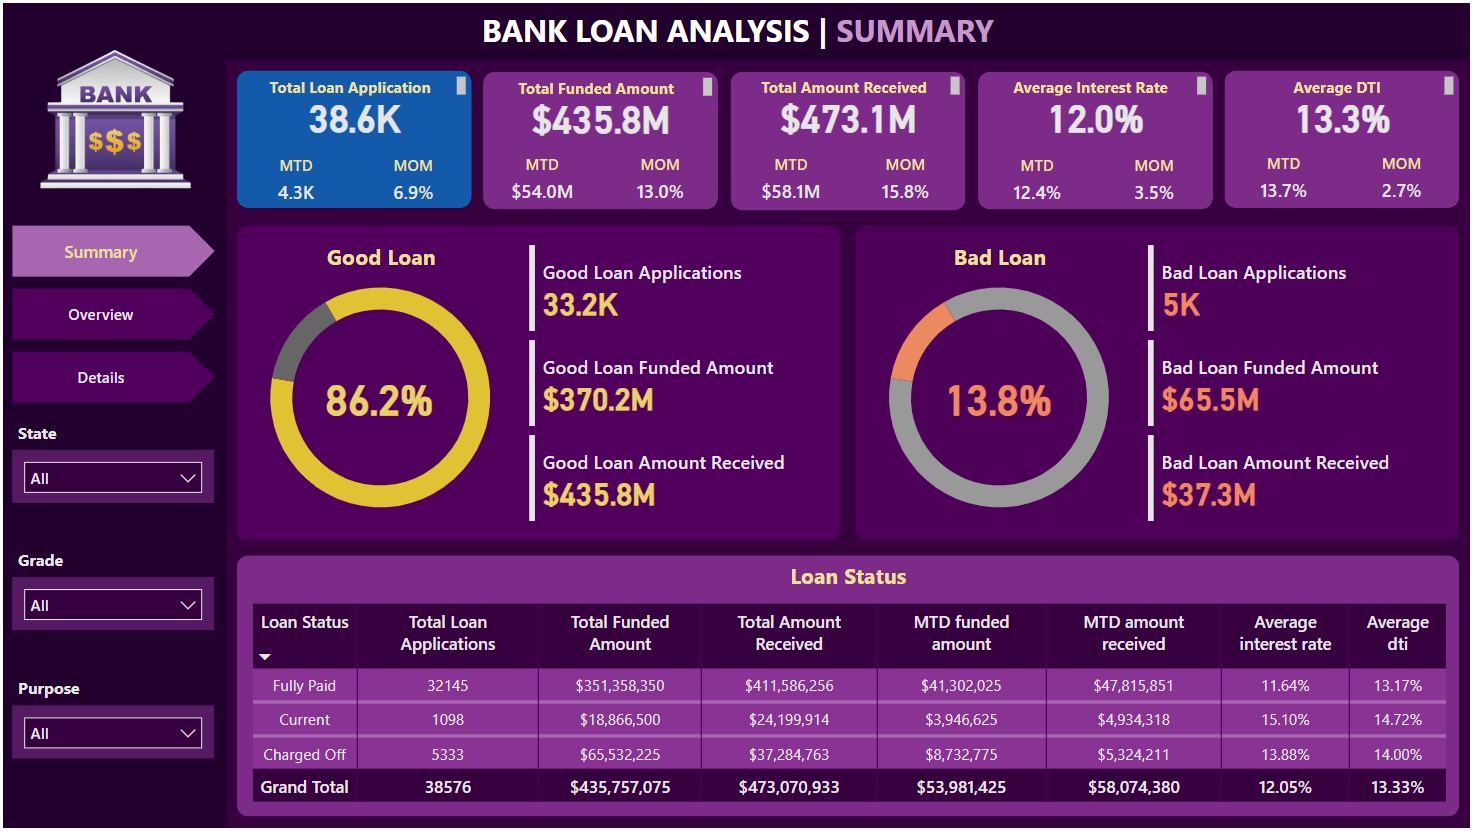

What the dashboard file says about the page in this screenshot:
{"tool":"powerbi","page":{"name":"Summary","canvas":[1280,720],"ordinal":0},"visuals":[{"type":"shape","box":[0,0,1280,49.6],"z":0},{"type":"shape","box":[203.9,193.8,527.3,274.9],"z":0,"group":"g6"},{"type":"shape","box":[743.6,193.8,527.3,274.9],"z":0,"group":"g7"},{"type":"shape","box":[203.9,482.2,1067,227.6],"z":1000},{"type":"shape","box":[0,49.5,194.9,670.4],"z":2000},{"type":"textbox","box":[401.1,0,479.9,49.4],"z":3000},{"type":"shape","box":[203.9,58.7,205,120],"z":3000,"group":"g1"},{"type":"shape","box":[1065.9,58.7,205,120],"z":3000,"group":"g4"},{"type":"shape","box":[419.1,59.8,205,120],"z":3000,"group":"g2"},{"type":"shape","box":[850.7,60,205,119.8],"z":3000,"group":"g3"},{"type":"group","id":"g1","title":"Group 1","box":[203.9,58.7,205,124.5],"z":4000},{"type":"shape","box":[635.5,59.5,205,121.1],"z":4000,"group":"g5"},{"type":"card","fields":{"Values":["loan_data.Total loan applications"]},"box":[203.9,75.2,205,45.9],"z":4000,"group":"g1"},{"type":"card","fields":{"Values":["loan_data.Average interest rate"]},"box":[850.7,75.2,204.5,45.9],"z":4000,"group":"g3"},{"type":"card","fields":{"Values":["loan_data.Average dti"]},"box":[1065.9,75.2,205,45.9],"z":4000,"group":"g4"},{"type":"card","fields":{"Values":["loan_data.Total funded amount"]},"box":[419.1,76.3,205,45.9],"z":4000,"group":"g2"},{"type":"textbox","box":[203.9,58.7,205,27.1],"z":5000,"group":"g1"},{"type":"textbox","box":[850.7,58.7,204.5,27.1],"z":5000,"group":"g3"},{"type":"textbox","box":[1065.9,58.7,205,27.1],"z":5000,"group":"g4"},{"type":"group","id":"g2","title":"Group 1","box":[419.1,59.8,205,123],"z":5000},{"type":"textbox","box":[419.1,59.8,205,27.1],"z":5000,"group":"g2"},{"type":"group","id":"g3","title":"Group 1","box":[850.7,58.7,205,124.3],"z":6000},{"type":"card","fields":{"Values":["loan_data.Total amount received"]},"box":[636,75.2,204.4,45.9],"z":6000,"group":"g5"},{"type":"card","title":"MTD","fields":{"Values":["loan_data.MTD avg dti"]},"box":[1080.7,130.9,73.4,50.8],"z":6000,"group":"g4"},{"type":"card","title":"MTD","fields":{"Values":["loan_data.MTD funded amount"]},"box":[433.9,132,73.4,50.8],"z":6000,"group":"g2"},{"type":"card","title":"MTD","fields":{"Values":["loan_data.MTD avg int rate"]},"box":[865.5,132.2,73.2,50.8],"z":6000,"group":"g3"},{"type":"card","title":"MTD","fields":{"Values":["loan_data.MTD loan application"]},"box":[218.5,132.6,73.6,50.6],"z":6000,"group":"g1"},{"type":"textbox","box":[636,58.7,204.5,27.1],"z":7000,"group":"g5"},{"type":"group","id":"g4","title":"Group 1","box":[1065.9,58.7,205,123],"z":7000},{"type":"card","title":"MOM","fields":{"Values":["loan_data.MOM avg dti"]},"box":[1183.5,130.9,73.4,50.8],"z":7000,"group":"g4"},{"type":"card","title":"MOM","fields":{"Values":["loan_data.MOM funded amount"]},"box":[536.7,132,73.4,50.8],"z":7000,"group":"g2"},{"type":"card","title":"MOM","fields":{"Values":["loan_data.MOM avg int rate"]},"box":[968,132.2,73.2,50.8],"z":7000,"group":"g3"},{"type":"card","title":"MOM","fields":{"Values":["loan_data.MOM loan applications"]},"box":[321,132.6,73.6,50.6],"z":7000,"group":"g1"},{"type":"group","id":"g5","title":"Group 2","box":[635.5,58.7,205,123.8],"z":8000},{"type":"card","title":"MTD","fields":{"Values":["loan_data.MTD amount received"]},"box":[651.6,131.7,73.2,50.8],"z":8000,"group":"g5"},{"type":"group","id":"g6","title":"Group 3","box":[203.9,193.8,527.3,274.9],"z":9000},{"type":"card","title":"MOM","fields":{"Values":["loan_data.MOM amount received"]},"box":[751.4,131.7,73.2,50.8],"z":10000,"group":"g5"},{"type":"group","id":"g7","title":"Group 3","box":[743.6,193.8,527.3,274.9],"z":10000},{"type":"donutChart","fields":{"Category":["loan_data.Good vs Bad Loan"],"Y":["loan_data.Total loan applications"]},"box":[203.9,218.6,250.1,250.1],"z":11000,"group":"g6"},{"type":"donutChart","fields":{"Category":["loan_data.Good vs Bad Loan"],"Y":["loan_data.Total loan applications"]},"box":[743.6,218.6,250.1,250.1],"z":11000,"group":"g7"},{"type":"tableEx","fields":{"Values":["loan_data.loan_status","loan_data.Total loan applications","loan_data.Total funded amount","loan_data.Total amount received","loan_data.MTD funded amount","loan_data.MTD amount received","loan_data.Average interest rate","loan_data.Average dti"]},"box":[211.8,519.4,1052.4,190.4],"z":11000},{"type":"textbox","box":[203.9,482.2,1067,37.2],"z":12000},{"type":"cardVisual","fields":{"Data":["loan_data.Good loan applications","loan_data.Good loan funded amount","loan_data.Good loan amount received"]},"box":[454,206.2,270.4,251.3],"z":13000,"group":"g6"},{"type":"cardVisual","fields":{"Data":["loan_data.Bad Loan Applications","loan_data.Bad Loan Funded Amount","loan_data.Bad Loan Amount Received"]},"box":[993.7,206.2,270.4,251.3],"z":13000,"group":"g7"},{"type":"group","id":"g8","title":"Group 4","box":[8.3,360,176.4,76.3],"z":13000},{"type":"textbox","box":[227.6,202.8,203.9,34.9],"z":13500,"group":"g6"},{"type":"textbox","box":[767.3,202.8,203.9,34.9],"z":13500,"group":"g7"},{"type":"card","fields":{"Values":["loan_data.Good loan percentage"]},"box":[254.6,321.1,146.5,45.1],"z":14000,"group":"g6"},{"type":"card","fields":{"Values":["loan_data.Bad loan percentage"]},"box":[794.3,321.1,146.5,45.1],"z":14000,"group":"g7"},{"type":"group","id":"g9","title":"Group 4","box":[8.3,471.3,176.4,76.3],"z":14000},{"type":"textbox","box":[8.3,360,176.4,28.9],"z":14500,"group":"g8"},{"type":"textbox","box":[8.3,471.3,176.4,28.9],"z":14500,"group":"g9"},{"type":"textbox","box":[8.3,582.7,176.4,28.9],"z":14500,"group":"g10"},{"type":"slicer","fields":{"Values":["loan_data.address_state"]},"box":[8.3,389.9,176.4,46.4],"z":15000,"group":"g8"},{"type":"slicer","fields":{"Values":["loan_data.grade"]},"box":[8.3,501.2,176.4,46.4],"z":15000,"group":"g9"},{"type":"group","id":"g10","title":"Group 4","box":[8.3,582.7,176.4,76.3],"z":15000},{"type":"slicer","fields":{"Values":["loan_data.purpose"]},"box":[8.3,612.6,176.4,46.4],"z":15000,"group":"g10"},{"type":"pageNavigator","box":[8.3,193.9,176.4,155.7],"z":16000},{"type":"image","box":[0,17.5,194.9,165],"z":17000}]}

Visuals, with their boxes in screenshot pixels (x1, y1, x2, y2), scaled from the page's 1280x720 canvas onto the 1474x831 screenshot:
shape: 0:0:1473:57
shape: 235:224:842:541
shape: 856:224:1464:541
shape: 235:557:1464:819
shape: 0:57:224:830
textbox: 462:0:1015:57
shape: 235:68:471:206
shape: 1227:68:1464:206
shape: 483:69:719:208
shape: 980:69:1216:208
"Group 1" group: 235:68:471:211
shape: 732:69:968:208
card - loan_data.Total loan applications: 235:87:471:140
card - loan_data.Average interest rate: 980:87:1215:140
card - loan_data.Average dti: 1227:87:1464:140
card - loan_data.Total funded amount: 483:88:719:141
textbox: 235:68:471:99
textbox: 980:68:1215:99
textbox: 1227:68:1464:99
"Group 1" group: 483:69:719:211
textbox: 483:69:719:100
"Group 1" group: 980:68:1216:211
card - loan_data.Total amount received: 732:87:968:140
"MTD" card: 1244:151:1329:210
"MTD" card: 500:152:584:211
"MTD" card: 997:153:1081:211
"MTD" card: 252:153:336:211
textbox: 732:68:968:99
"Group 1" group: 1227:68:1464:210
"MOM" card: 1363:151:1447:210
"MOM" card: 618:152:703:211
"MOM" card: 1115:153:1199:211
"MOM" card: 370:153:454:211
"Group 2" group: 732:68:968:211
"MTD" card: 750:152:835:211
"Group 3" group: 235:224:842:541
"MOM" card: 865:152:950:211
"Group 3" group: 856:224:1464:541
donutChart - loan_data.Good vs Bad Loan x loan_data.Total loan applications: 235:252:523:541
donutChart - loan_data.Good vs Bad Loan x loan_data.Total loan applications: 856:252:1144:541
tableEx - loan_data.loan_status x loan_data.Total loan applications: 244:599:1456:819
textbox: 235:557:1464:599
cardVisual - loan_data.Good loan applications x loan_data.Good loan funded amount: 523:238:834:528
cardVisual - loan_data.Bad Loan Applications x loan_data.Bad Loan Funded Amount: 1144:238:1456:528
"Group 4" group: 10:415:213:504
textbox: 262:234:497:274
textbox: 884:234:1118:274
card - loan_data.Good loan percentage: 293:371:462:423
card - loan_data.Bad loan percentage: 915:371:1083:423
"Group 4" group: 10:544:213:632
textbox: 10:415:213:449
textbox: 10:544:213:577
textbox: 10:673:213:706
slicer - loan_data.address_state: 10:450:213:504
slicer - loan_data.grade: 10:578:213:632
"Group 4" group: 10:673:213:761
slicer - loan_data.purpose: 10:707:213:761
pageNavigator: 10:224:213:403
image: 0:20:224:211
